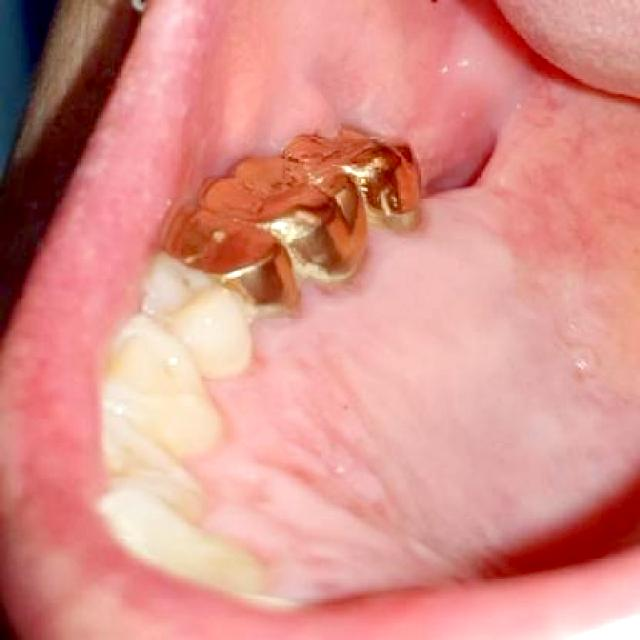Plaque: (254, 197, 455, 336)
